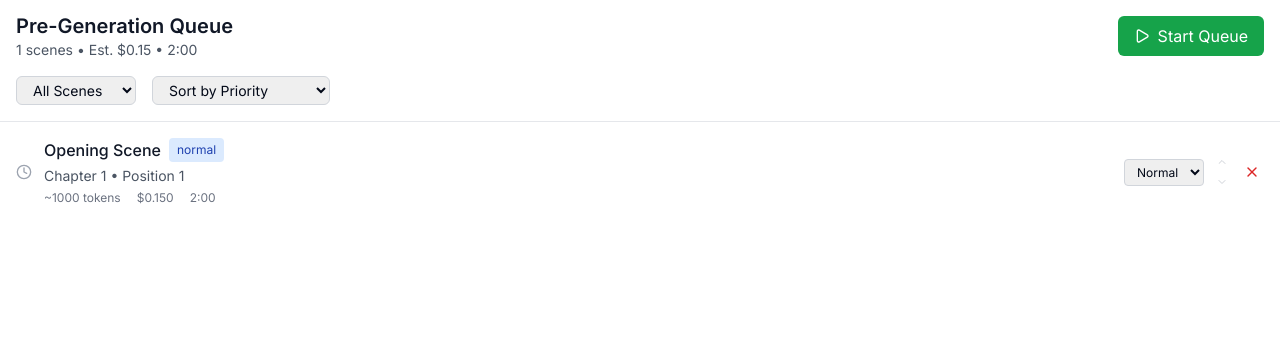
Test: PreGenerationQueue › Queue Item Display › displays context information in expanded view
Note: Click to expand
Click the text "Opening Scene" at (103, 150), box [0,122,1279,222]
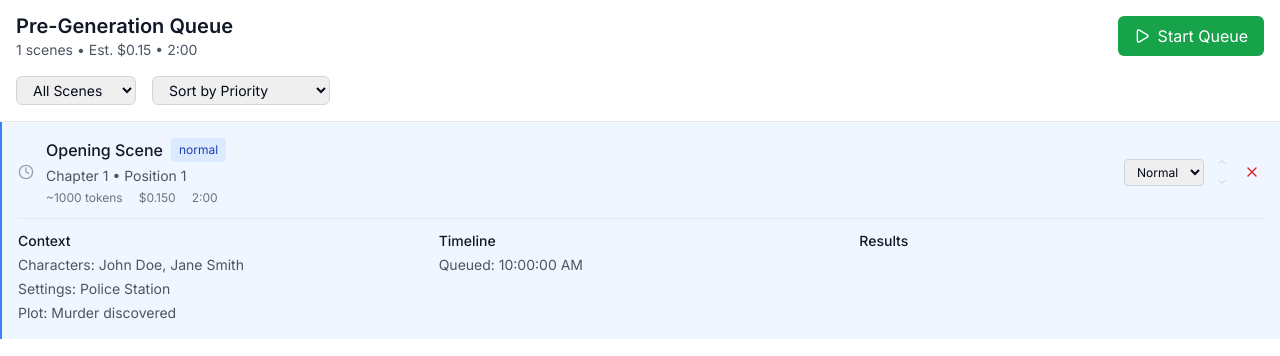
Expected: the text "Characters: John Doe, Jane Smith" is shown, [18,256,244,273]
Expected: the text "Settings: Police Station" is shown, [18,280,170,297]
Expected: the text "Plot: Murder discovered" is shown, [18,304,176,321]
